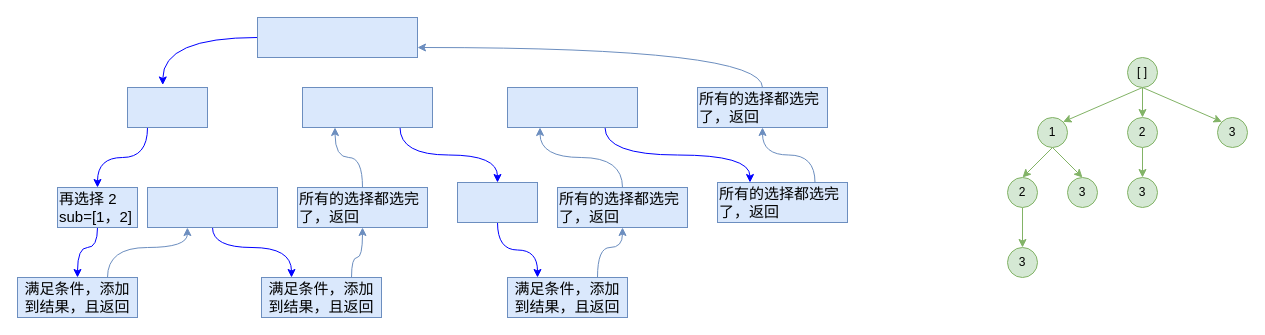
The diagram is 1265 pixels wide and 335 high, and some of its shapes have lost their labels. The centre of each missing label's shape, as x and y in pixels:
先删除1，再选择2 sub=[2]: the point at 367,107
先删除2，再选择3 sub=[1，3]: the point at 212,207
先删除2，再选择3 sub=[3]: the point at 572,107
先选择 1 sub=[1]: the point at 167,107
再选择 3 sub=[2，3]: the point at 497,202
初始sub = [ ] 可选路径为{1，2，3}: the point at 337,37
